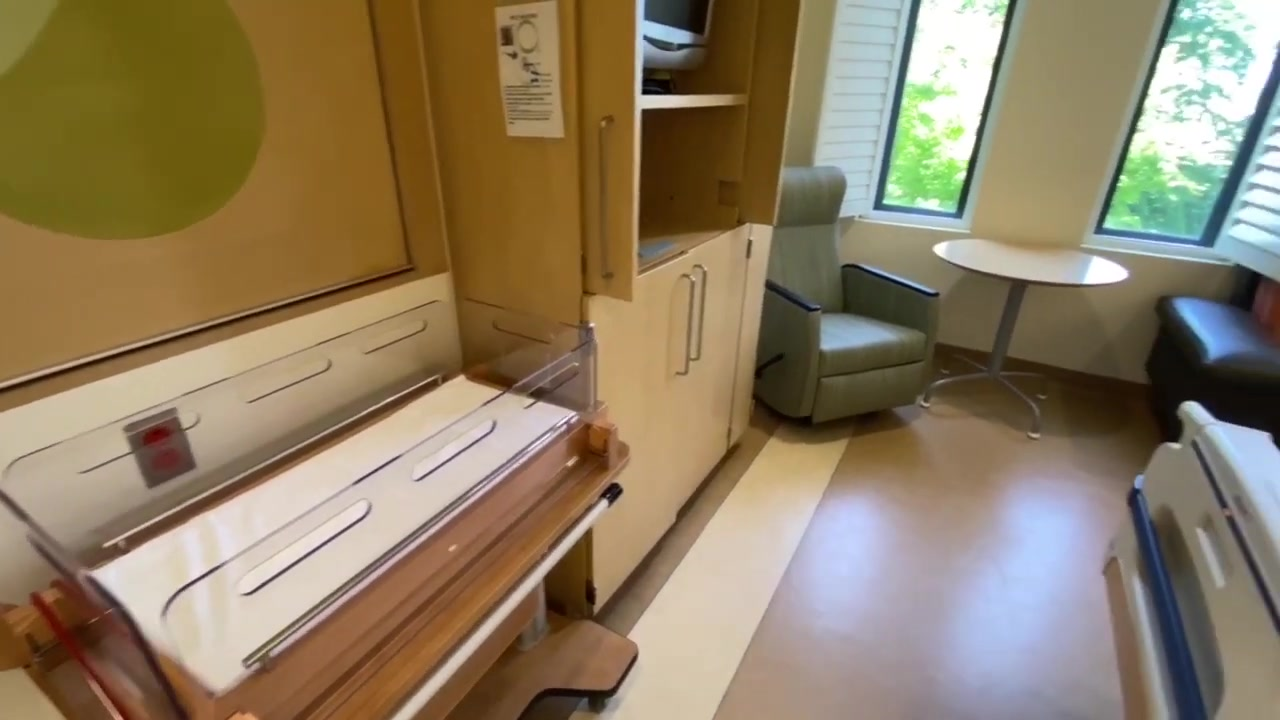TV: (643, 1, 718, 70)
foot_board: (1106, 405, 1280, 720)
handle: (596, 114, 616, 282), (675, 271, 698, 377), (689, 261, 709, 363)
sofa: (753, 165, 941, 424), (1144, 293, 1280, 440)
table: (935, 236, 1129, 447)
